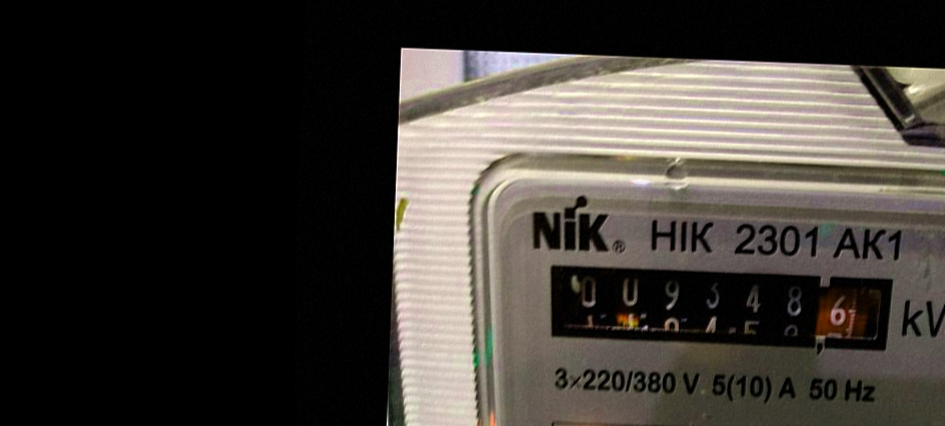0: (619, 273, 641, 310), (578, 274, 599, 309)
3: (701, 277, 724, 310)
4: (740, 279, 763, 317)
6: (827, 292, 850, 327)
8: (783, 283, 805, 317)
9: (662, 276, 681, 311)
screen: (524, 250, 913, 366)
